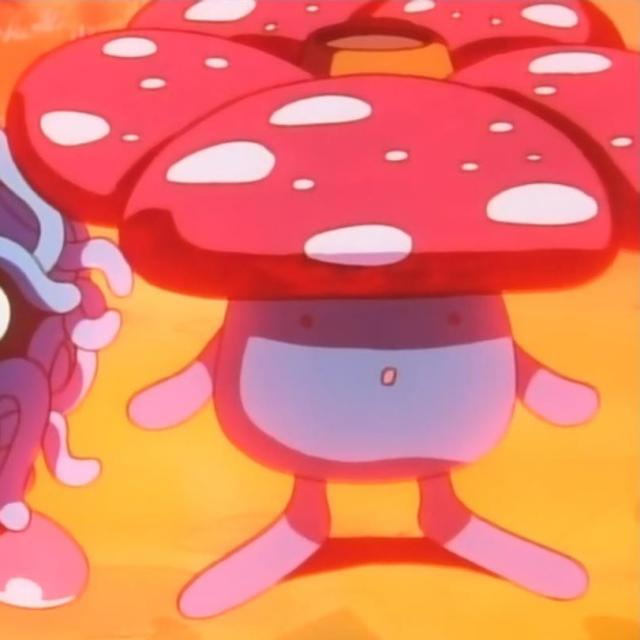Vileplume: (166, 0, 588, 535)
